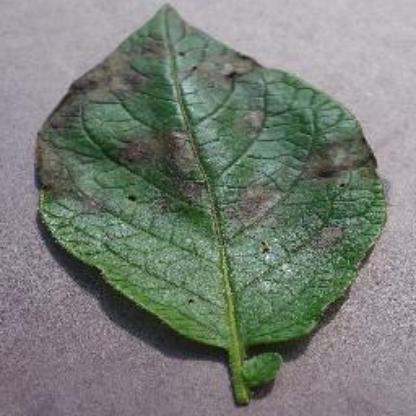Late-Blight: (31, 9, 382, 392)
